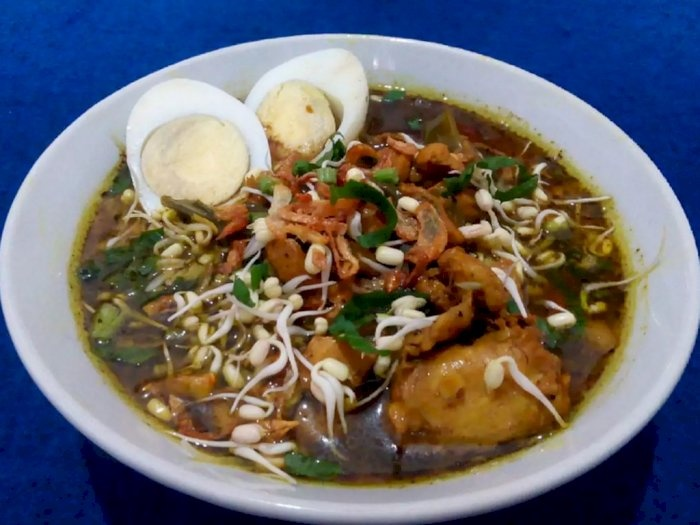rawon: (69, 28, 618, 469)
